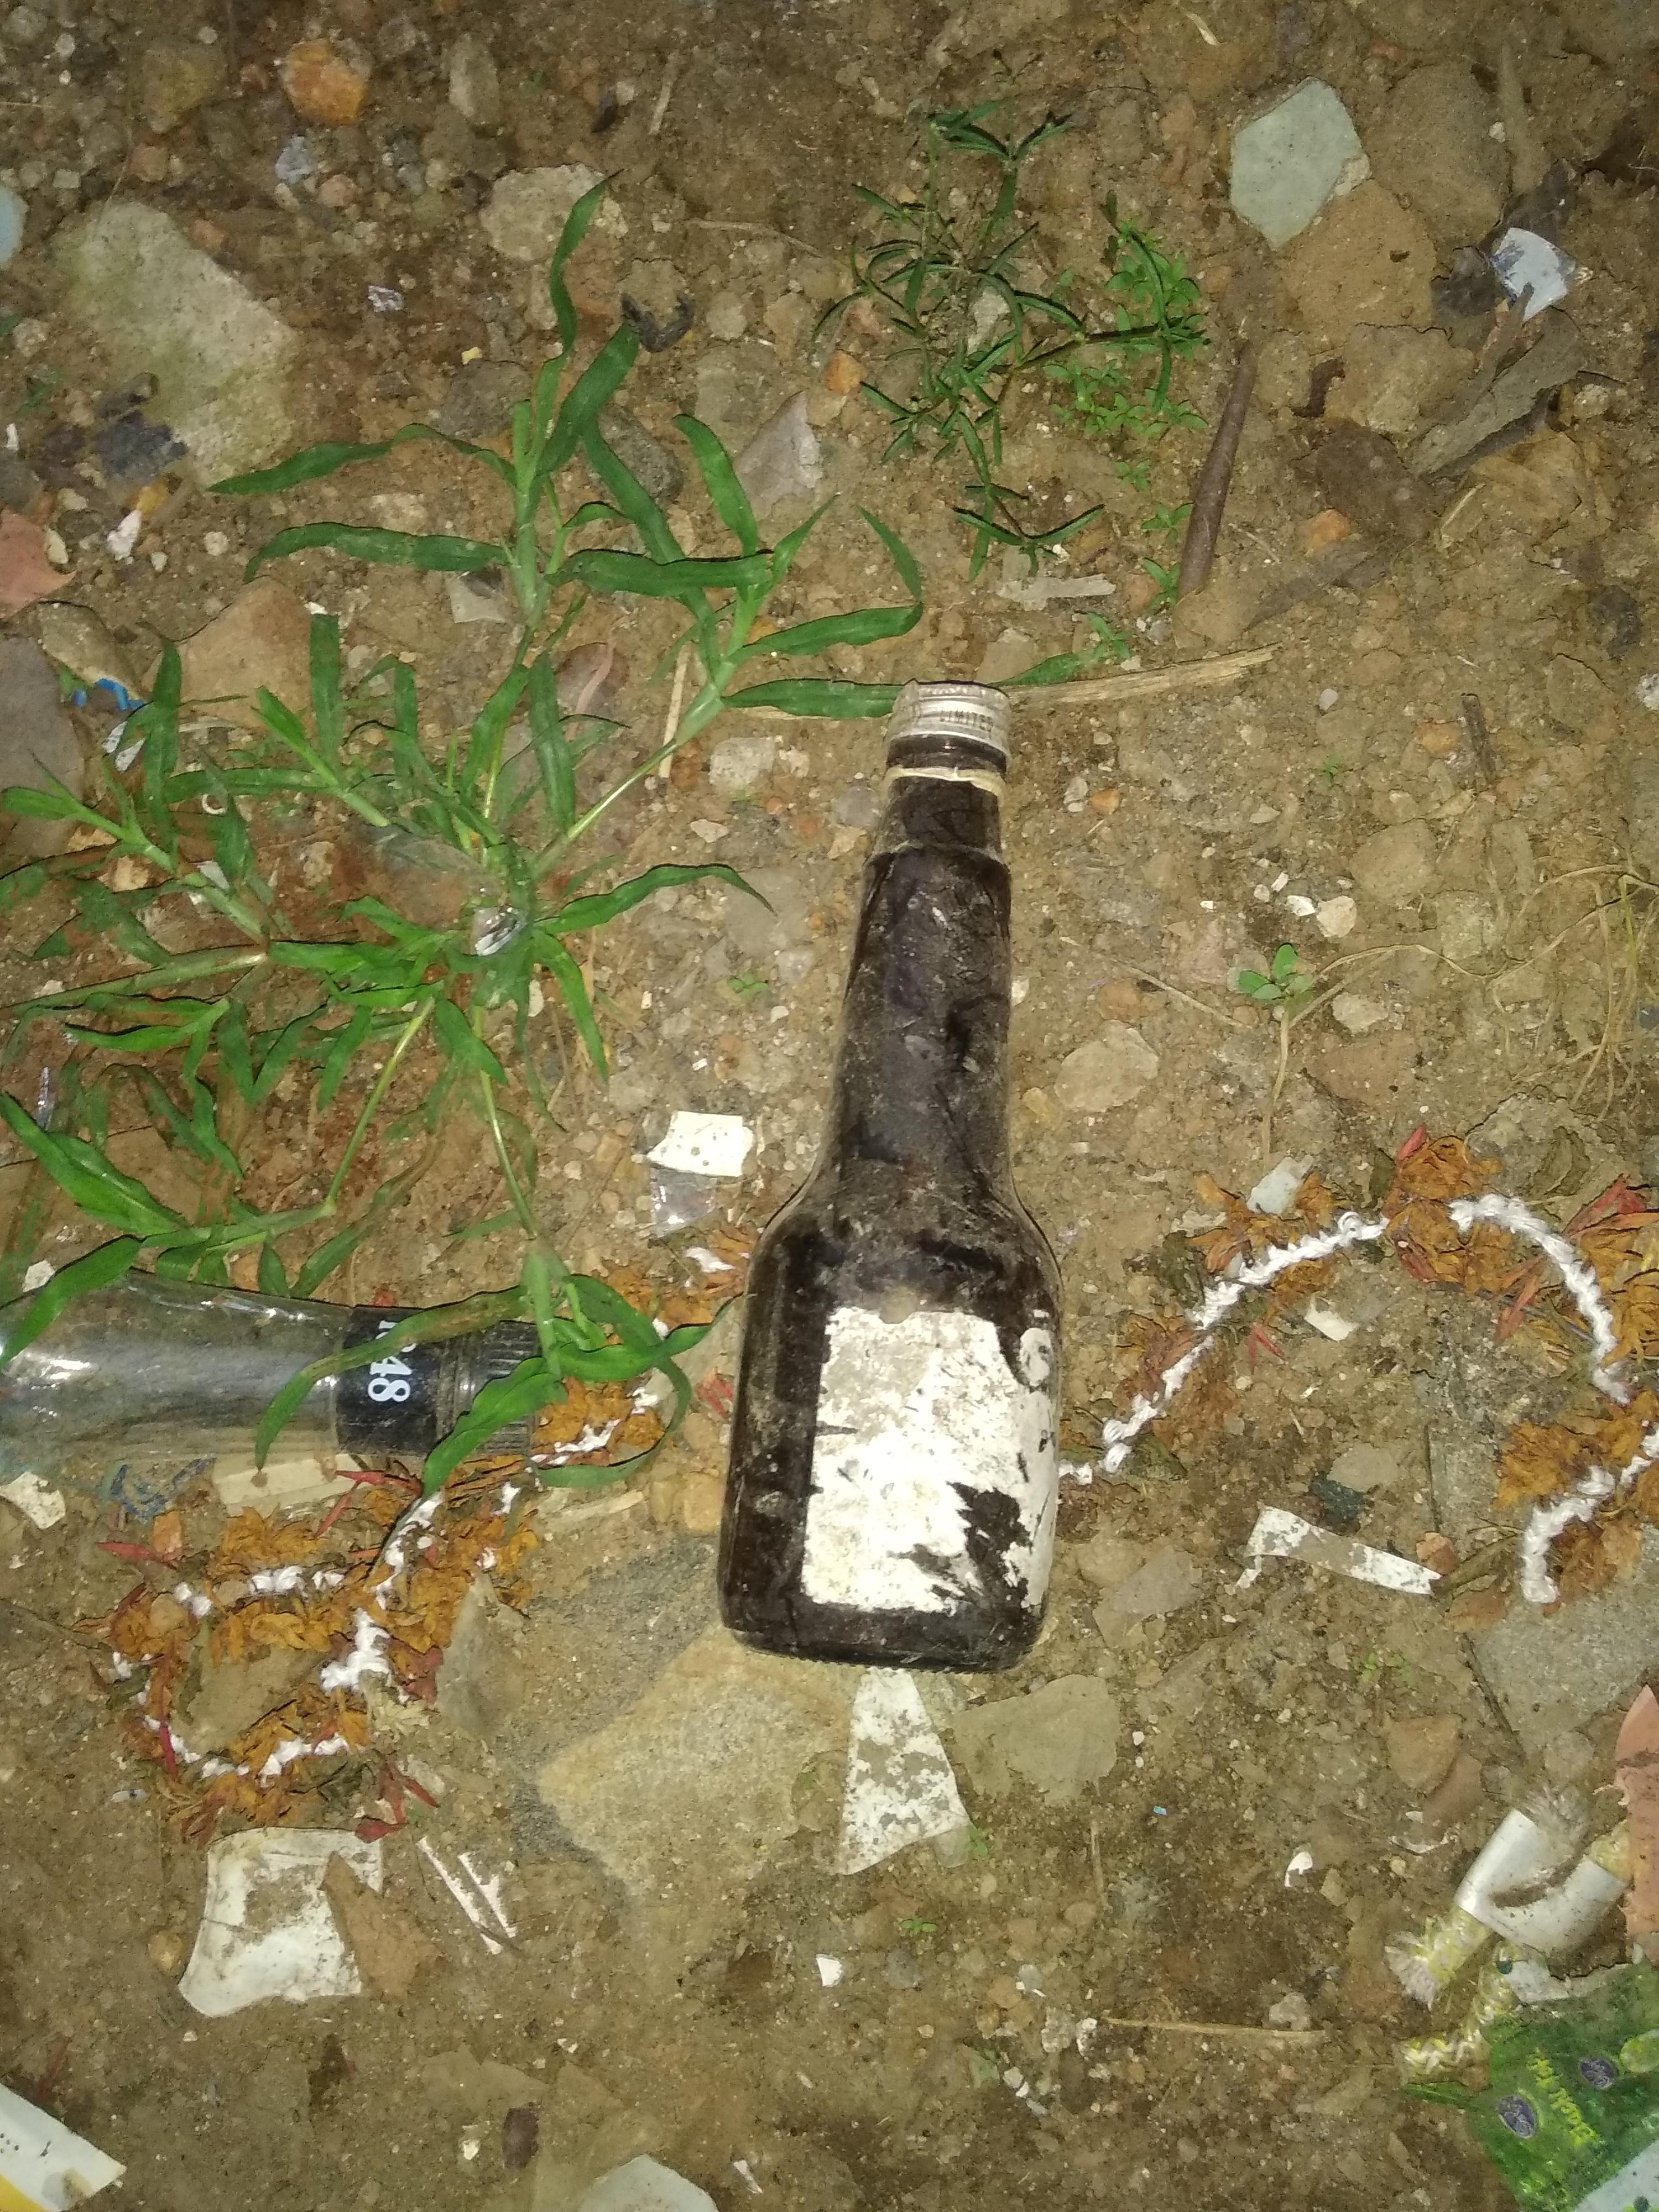trash: (0, 669, 1093, 1712)
